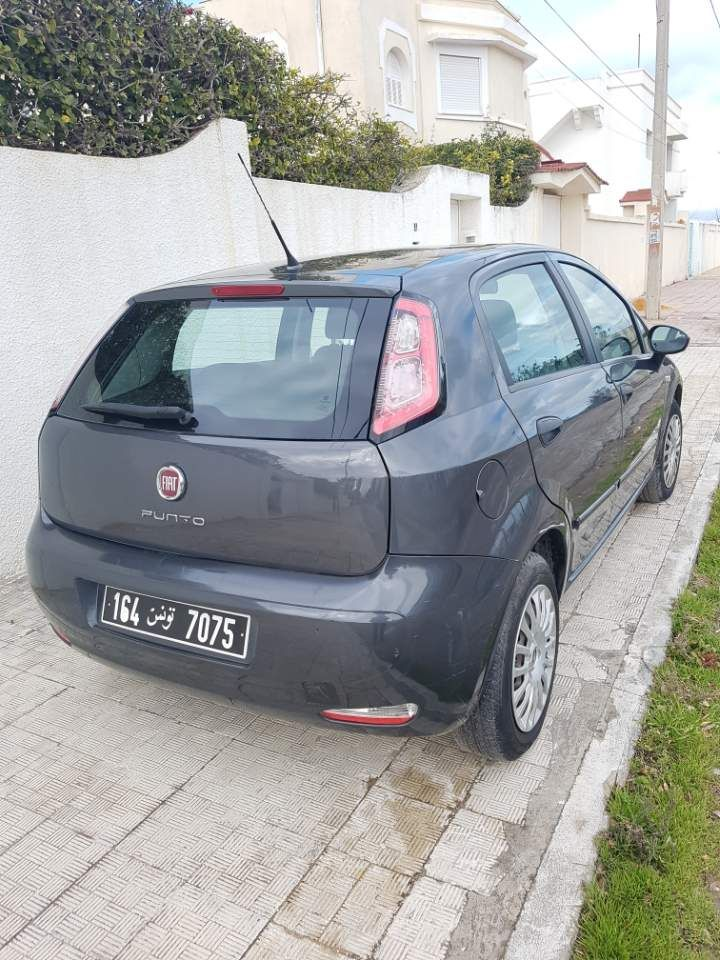LP: (101, 585, 249, 659)
